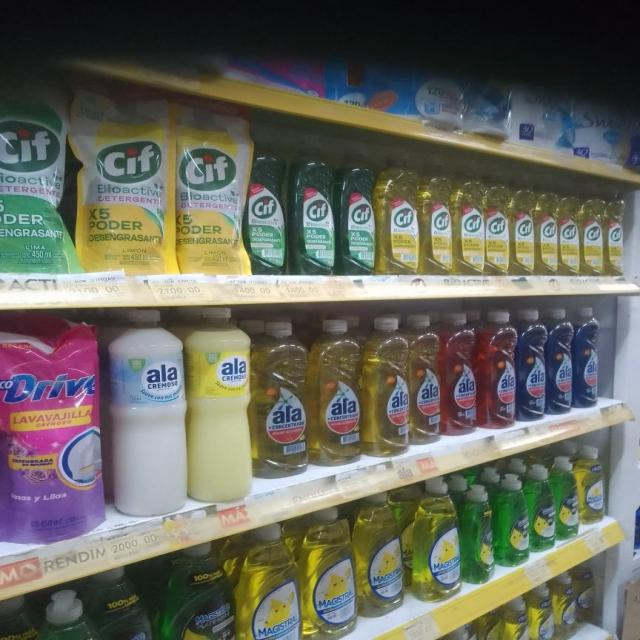ala_conc_amarillo: (253, 318, 308, 479), (310, 316, 362, 466), (365, 315, 409, 457), (411, 314, 442, 445)
ala_conc_azul: (517, 308, 546, 423), (574, 306, 602, 411), (547, 307, 573, 415)
ala_conc_rojo: (479, 310, 516, 430), (443, 312, 478, 436)
ala_crem_amarillo: (188, 307, 251, 505)
ala_crem_blanco: (107, 307, 186, 519)
cif_conc_bot_amarilla: (377, 158, 419, 277), (420, 173, 452, 276), (454, 180, 484, 276), (485, 184, 509, 278), (510, 188, 534, 276), (536, 191, 558, 277), (581, 196, 603, 277), (559, 195, 579, 277), (604, 198, 624, 278)
cif_conc_botella_verde: (291, 146, 335, 276), (246, 145, 288, 276), (338, 148, 376, 276)
cif_conc_sachet_amarillo: (73, 82, 172, 276), (175, 99, 245, 279)
drive: (0, 321, 104, 545)
magistral_con_amarillo: (239, 522, 299, 640), (303, 506, 355, 640), (411, 478, 461, 603), (357, 491, 404, 618), (580, 444, 608, 526), (555, 573, 577, 639), (530, 582, 554, 640), (577, 562, 597, 628), (504, 596, 529, 640)
